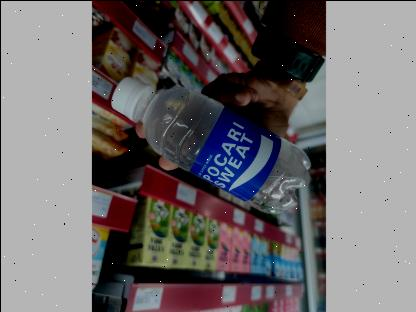Plastic Bottle: (110, 75, 310, 213)
